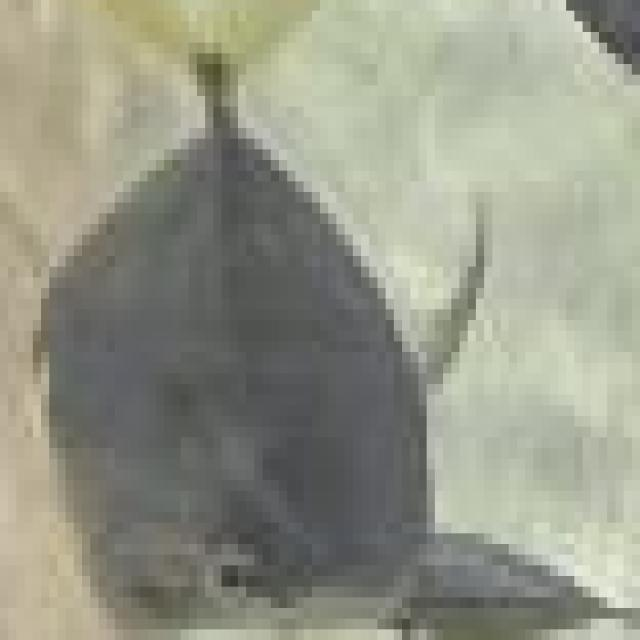fish: (0, 10, 632, 640)
